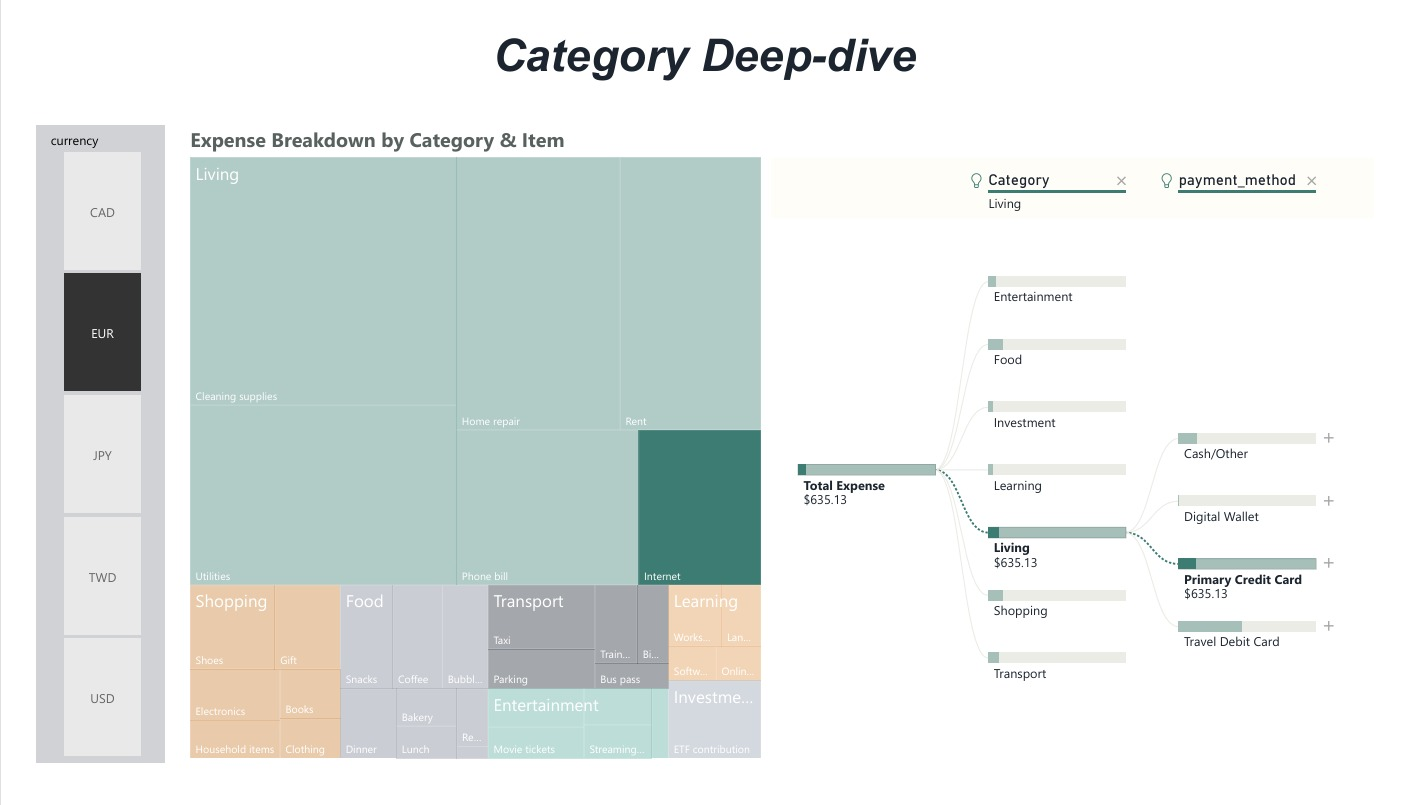

The page's visual inventory and layout, read from the dashboard file:
{"tool":"powerbi","page":{"name":"Category Deep-dive","canvas":[1280,720],"ordinal":2},"visuals":[{"type":"textbox","box":[10,0,280,280],"z":0},{"type":"textbox","box":[283.3,0,716.7,70],"z":1000},{"type":"slicer","fields":{"Values":["daily_expenses.currency"]},"box":[9.6,96.1,122.1,602.5],"z":2000},{"type":"treemap","title":"Expense Breakdown by Category & Item","fields":{"Group":["daily_expenses.Category"],"Details":["daily_expenses.item_description"],"Values":["daily_expenses.Total Expense"]},"box":[149.6,96.1,550.3,602.5],"z":3000},{"type":"decompositionTreeVisual","fields":{"Analyze":["daily_expenses.Total Expense"],"ExplainBy":["daily_expenses.Category","daily_expenses.payment_method","DateTable.Date"]},"box":[699.9,122.1,580.5,576.4],"z":4000}]}

Visuals, with their boxes in screenshot pixels (x1, y1, x2, y2), scaled from the page's 1280x720 canvas onto the 1404x805 screenshot:
textbox: {"left": 11, "top": 0, "right": 318, "bottom": 313}
textbox: {"left": 311, "top": 0, "right": 1097, "bottom": 78}
slicer - daily_expenses.currency: {"left": 11, "top": 107, "right": 144, "bottom": 781}
"Expense Breakdown by Category & Item" treemap: {"left": 164, "top": 107, "right": 768, "bottom": 781}
decompositionTreeVisual - daily_expenses.Total Expense x daily_expenses.Category: {"left": 768, "top": 137, "right": 1403, "bottom": 781}
